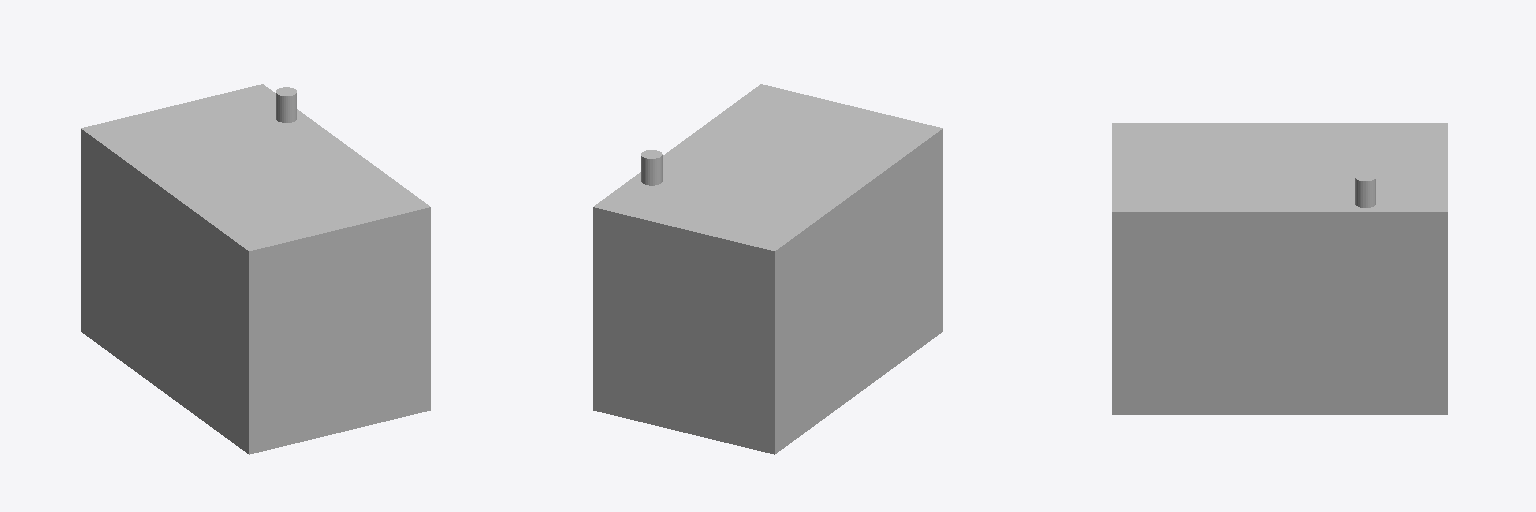
File: Lavabo_UV.obj
3 views of the same model, side by side, from view 1: azimuth 30°, elevation 25°; view 2: azimuth 150°, elevation 25°; view 3: azimuth 270°, elevation 25° (orthographic).
Parts seen in each view (by area): view 1: Trastes.001, Cylinder; view 2: Trastes.001, Cylinder; view 3: Trastes.001, Cylinder.
Boxes of the visible parts, box(x1,y1,x2,y2) form: Trastes.001: box(81, 84, 430, 454); Cylinder: box(276, 87, 296, 122); Trastes.001: box(593, 84, 942, 454); Cylinder: box(641, 150, 662, 185); Trastes.001: box(1112, 123, 1447, 414); Cylinder: box(1355, 172, 1375, 207).
Bounding box in the file's own units: 1.5 × 1.81 × 2.4.